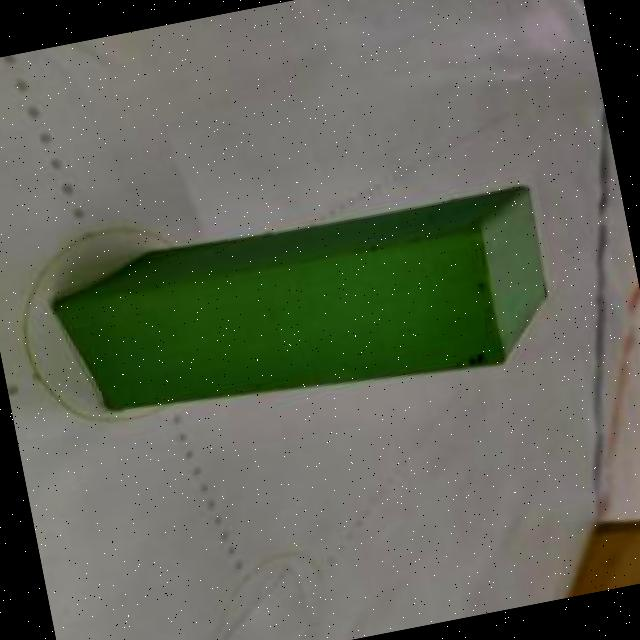greenbox: (41, 176, 568, 450)
